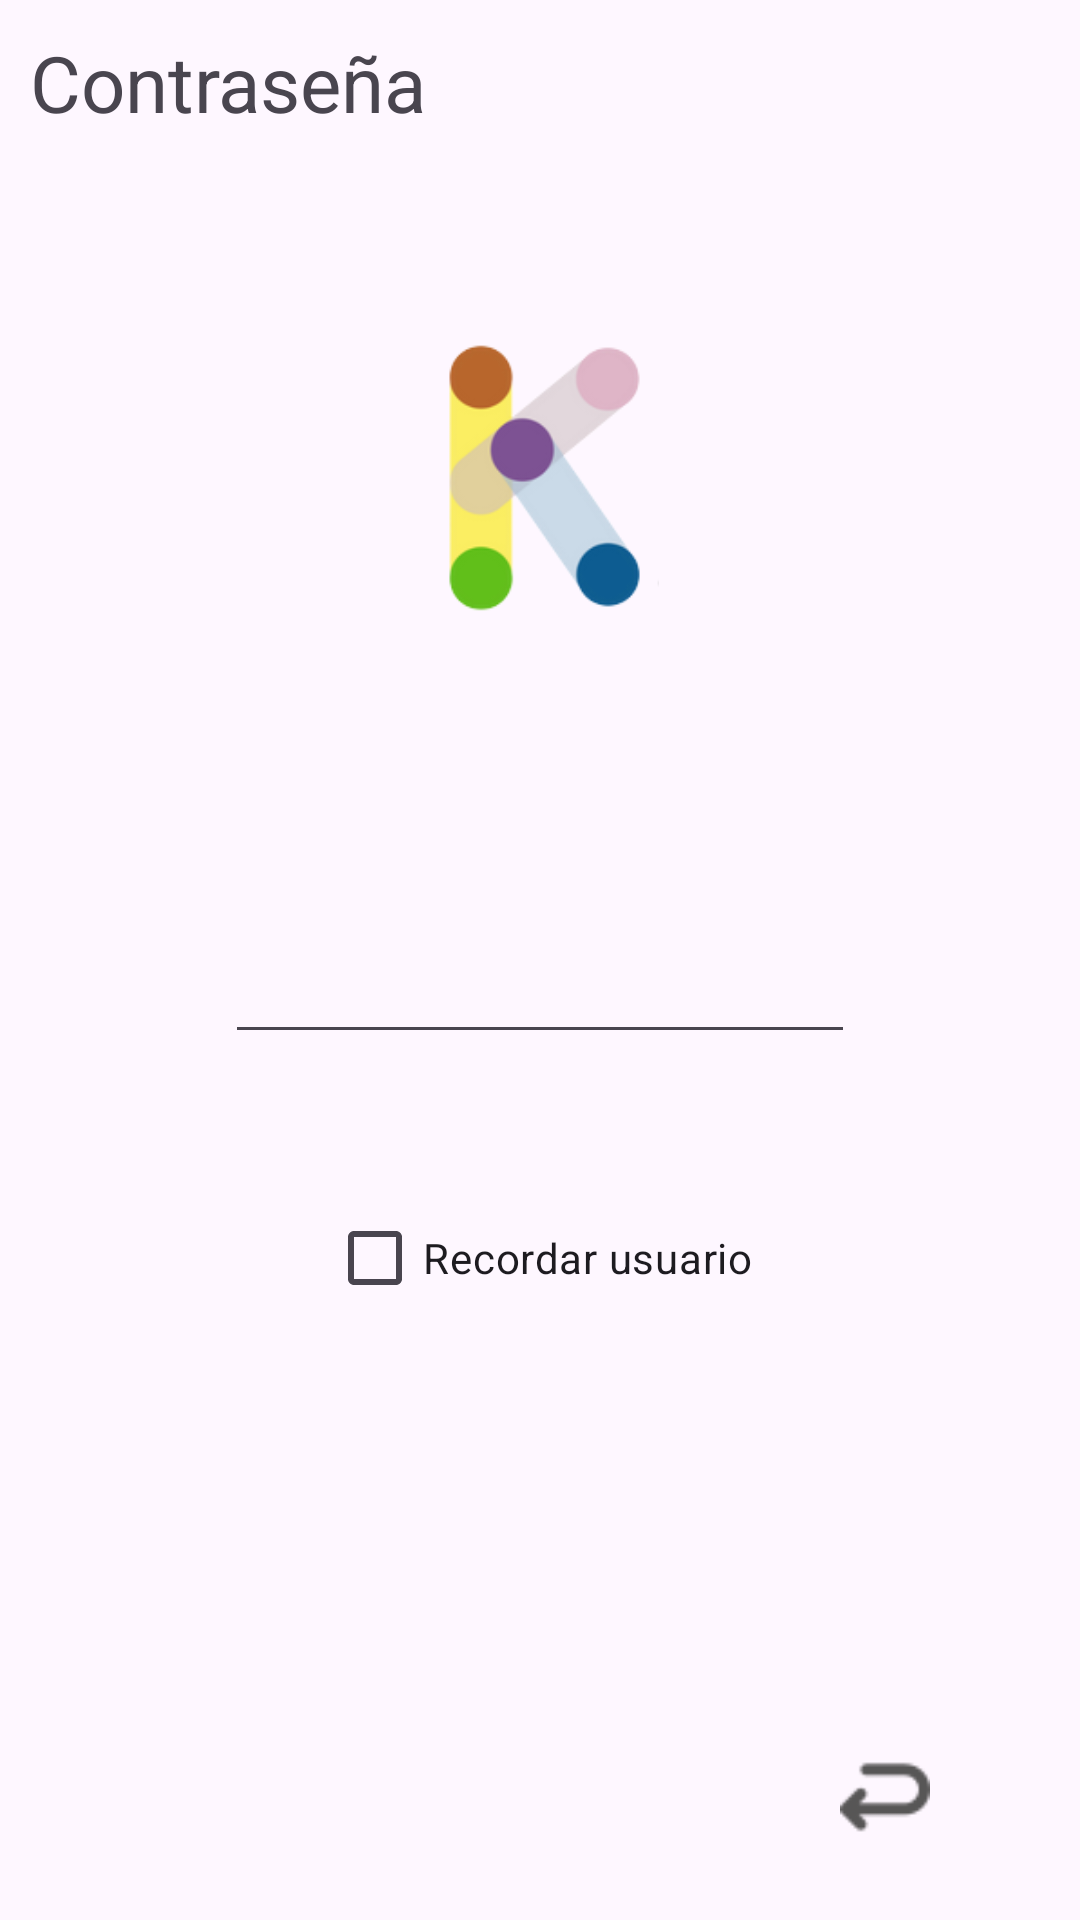

Named icons in this screenshot (1080x1920) and their centers, (x,y):
volver: (885,1796)
